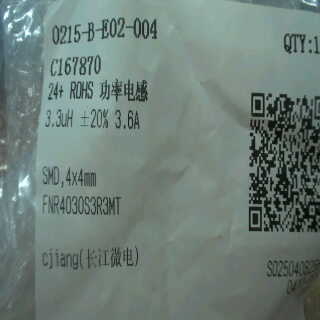3.3uH: (43, 104, 76, 133)
